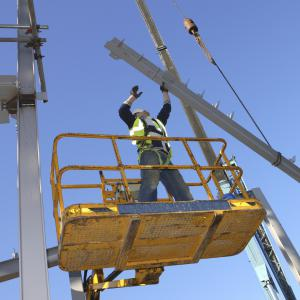white: (131, 108, 151, 122)
